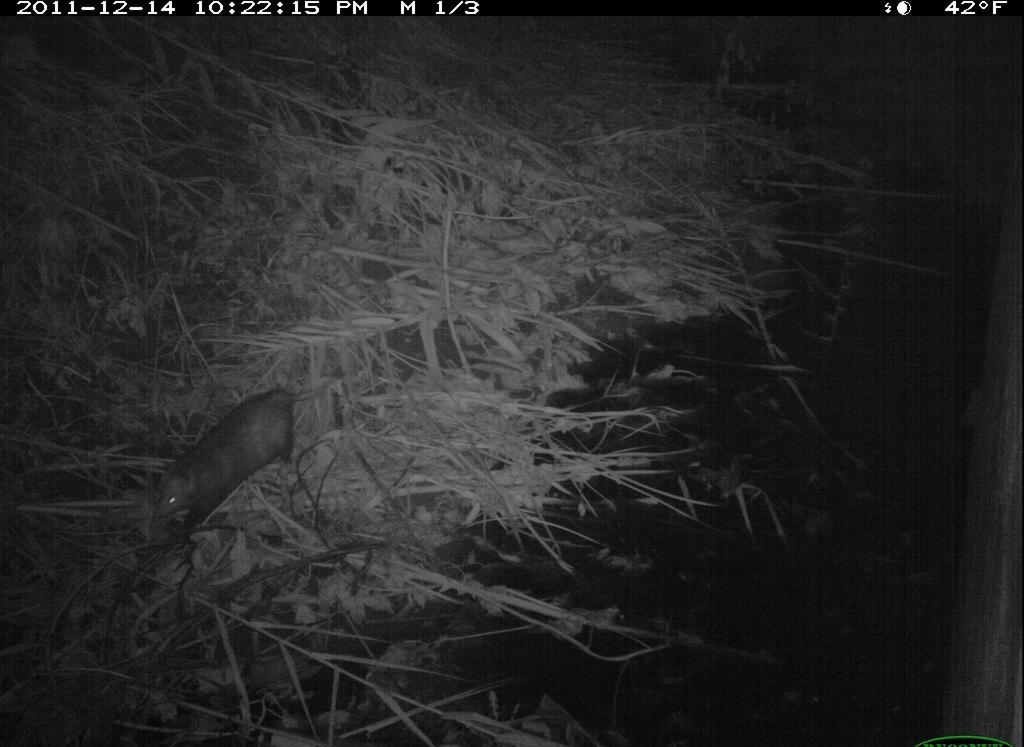opossum: (125, 370, 342, 539)
